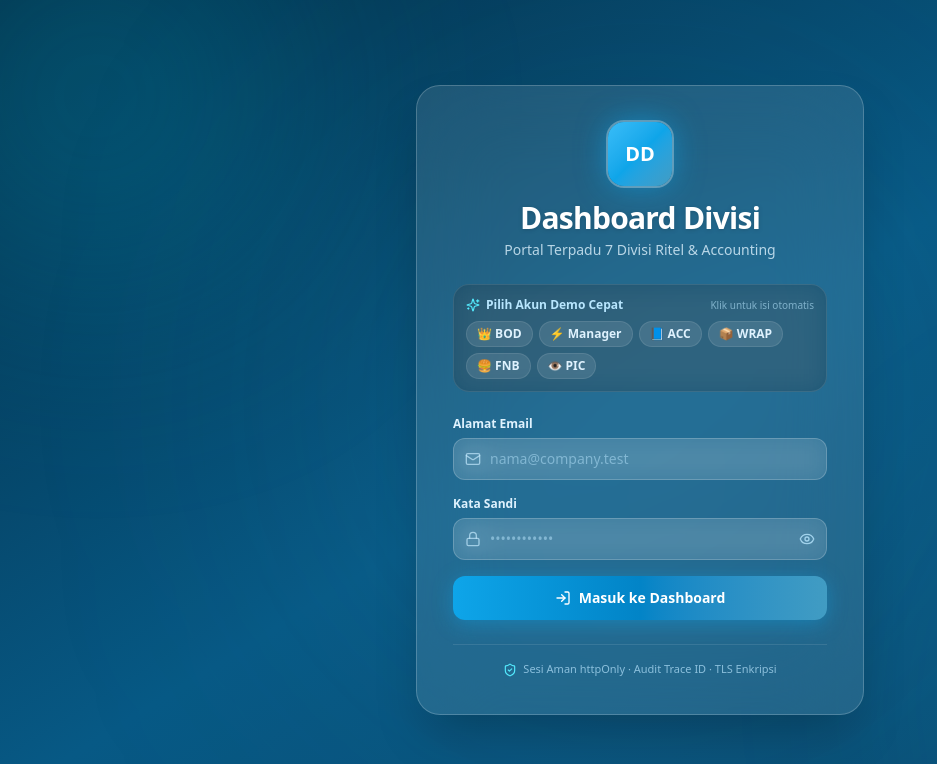
LoginPage - Glassmorphic, Quick Role Switcher, & Inline Validation › 3. Toggle Show/Hide password mengubah tipe input dan aria-label secara interaktif
The width and height of the screenshot is (937, 764).
Note: Klik untuk menampilkan kata sandi
Step 1. Click the button named "Tampilkan password" → (813, 539), box [799,518,827,560]
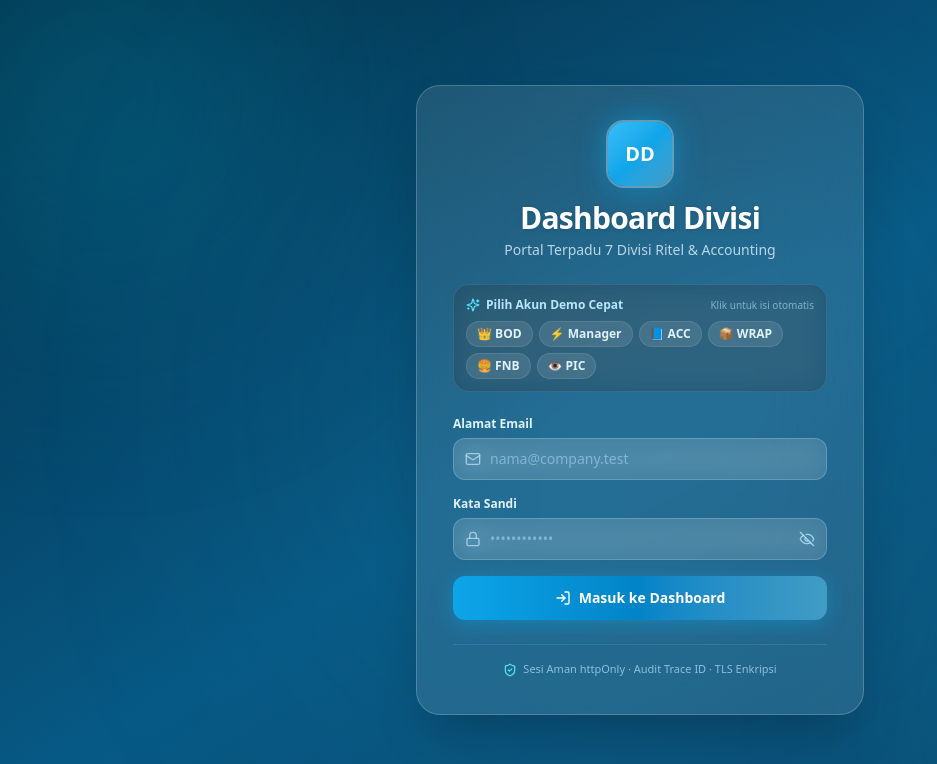
Now the button named "Sembunyikan password" is shown
Note: Klik kembali untuk menyembunyikan kata sandi
Step 2. Click the button named "Sembunyikan password" → (813, 539), box [799,518,827,560]
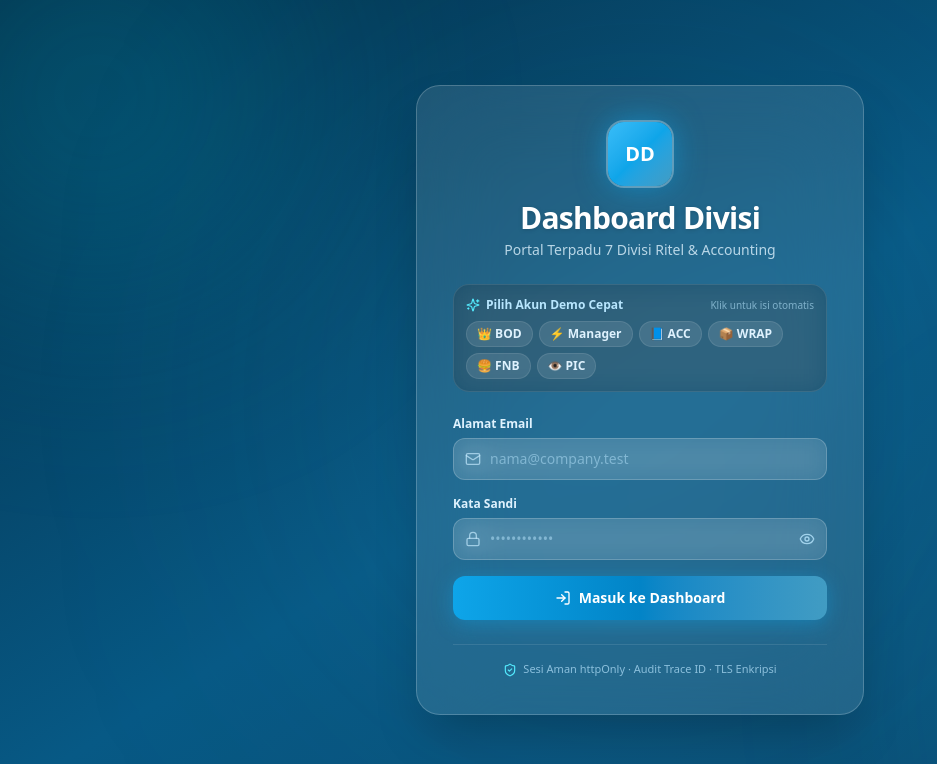
Now the button named "Tampilkan password" is shown, box [799,518,827,560]
